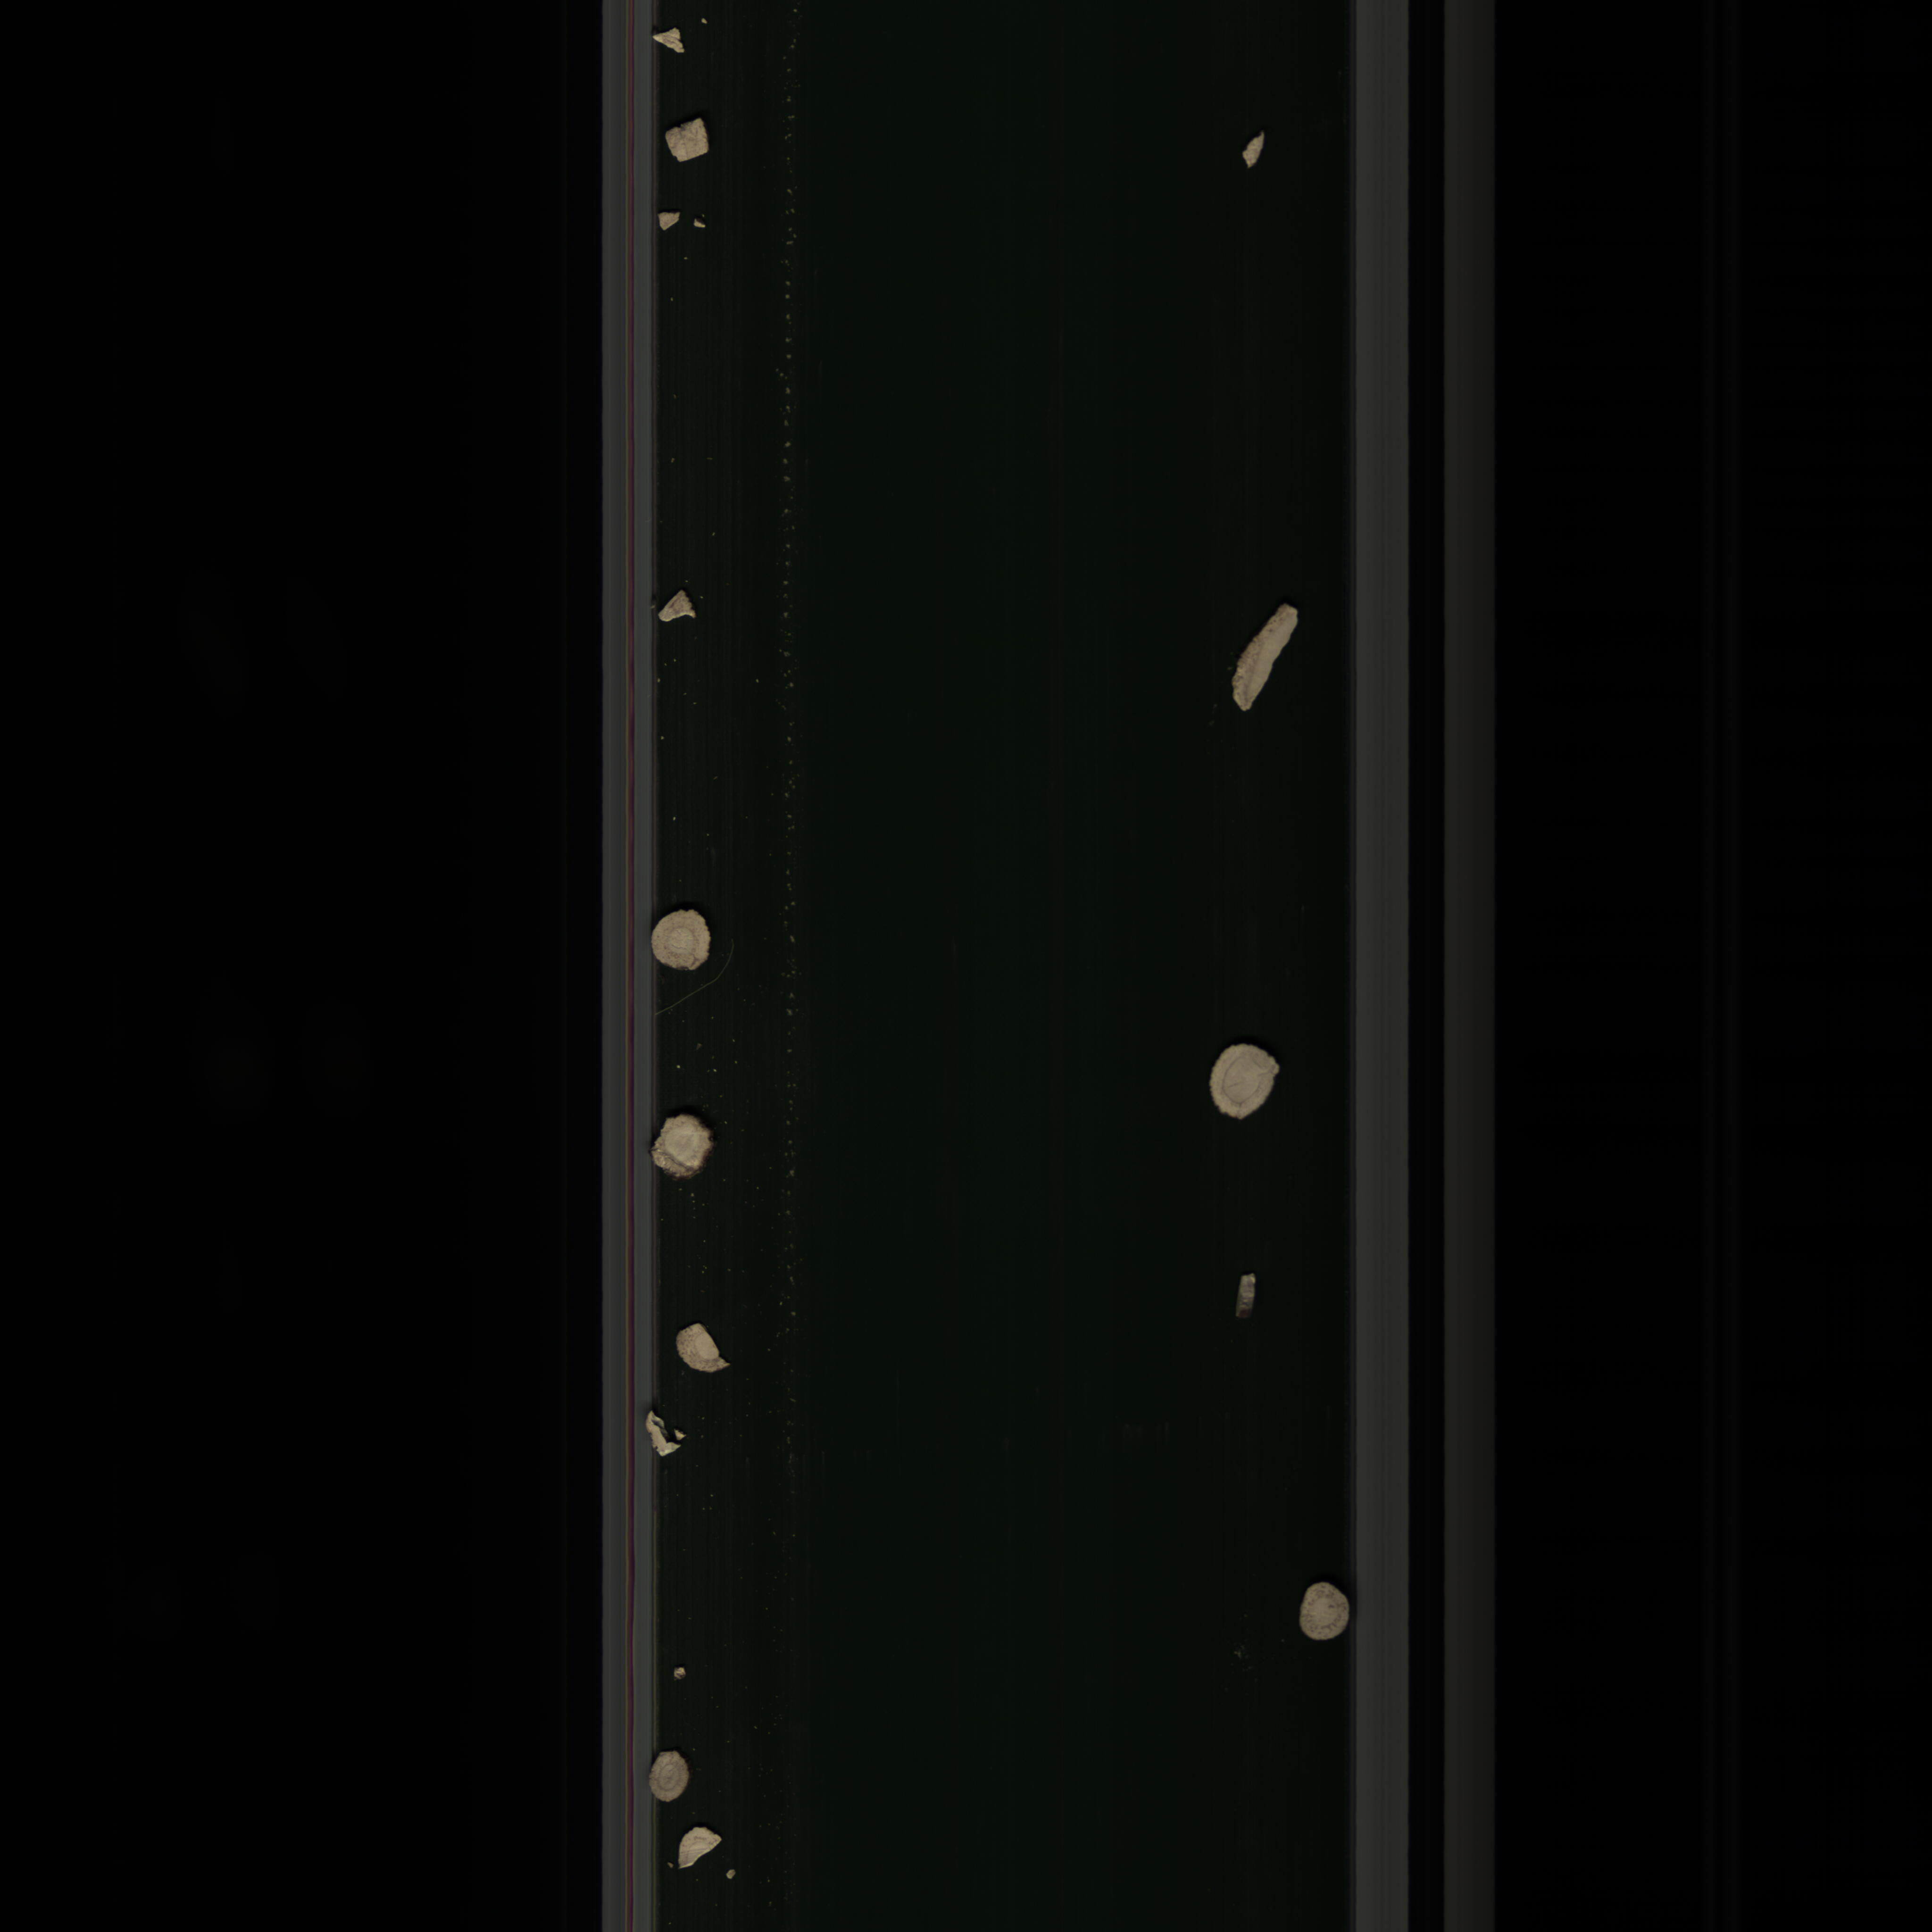debris: (1212, 600, 1311, 725), (669, 1323, 741, 1384), (639, 1405, 690, 1468), (660, 115, 715, 172), (674, 1824, 725, 1875), (1231, 126, 1274, 173), (658, 586, 701, 628), (648, 23, 692, 64), (1233, 1269, 1263, 1325), (653, 203, 685, 232)
distortion: (649, 1108, 713, 1182)
